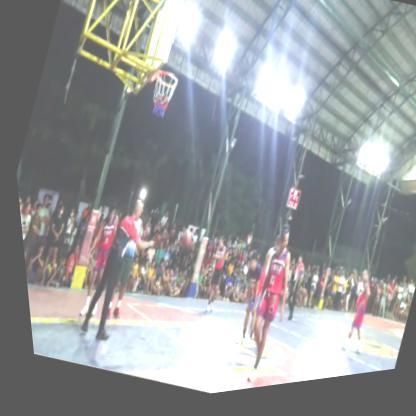basketball: (169, 229, 192, 260)
rim: (128, 51, 189, 138)
